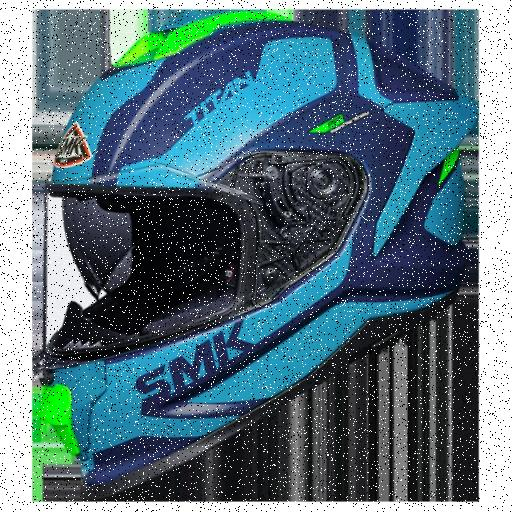Helmet: (35, 12, 476, 498)
